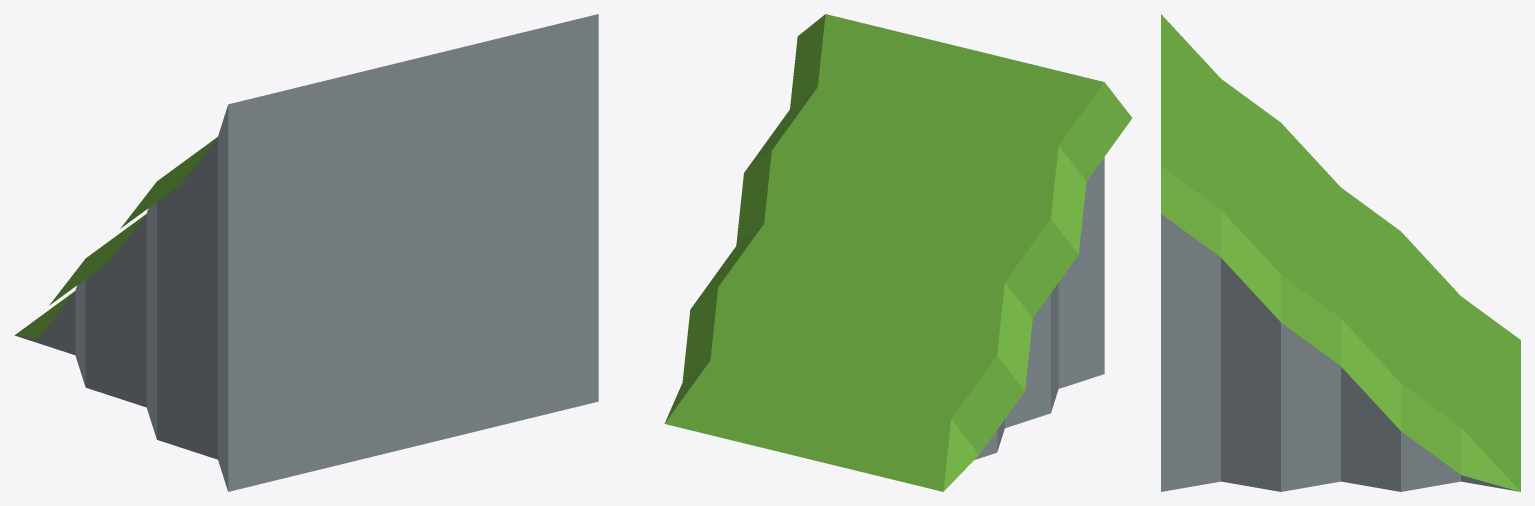
Rendered from cliff_blockSlope_stone.glb.
3 views of the same model, side by side, from view 1: azimuth 30°, elevation 25°; view 2: azimuth 150°, elevation 25°; view 3: azimuth 270°, elevation 25° (orthographic). The views are drawn at different scales.
Visible parts, largest first — view 1: cliff_blockSlope_stone; view 2: cliff_blockSlope_stone; view 3: cliff_blockSlope_stone.
Boxes of the visible parts, box(x1,y1,x2,y2) form: cliff_blockSlope_stone: box(14, 14, 598, 491); cliff_blockSlope_stone: box(664, 14, 1132, 491); cliff_blockSlope_stone: box(1161, 14, 1520, 491).
Bounding box in the file's own units: 1.2 × 1 × 1.
